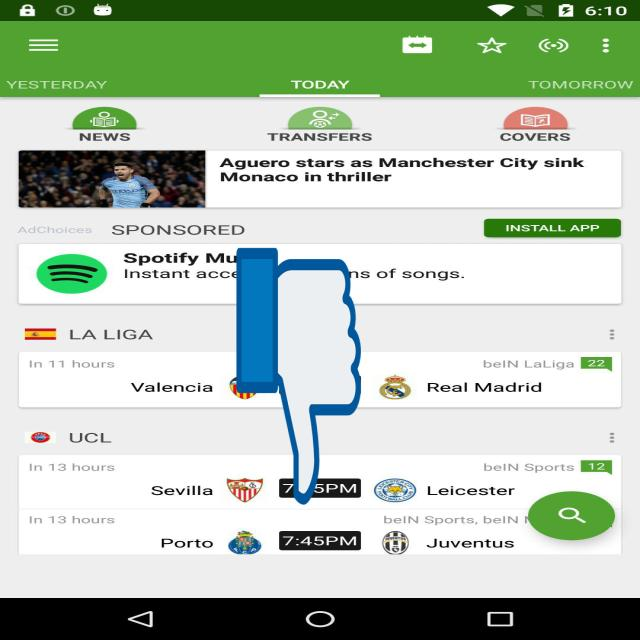obstruction: (236, 242, 361, 510)
